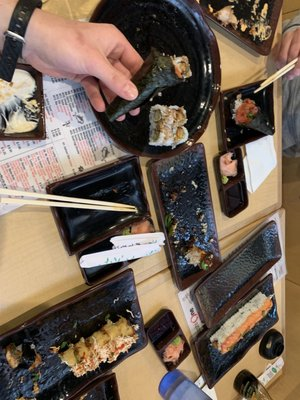burger: (0, 1, 296, 373)
